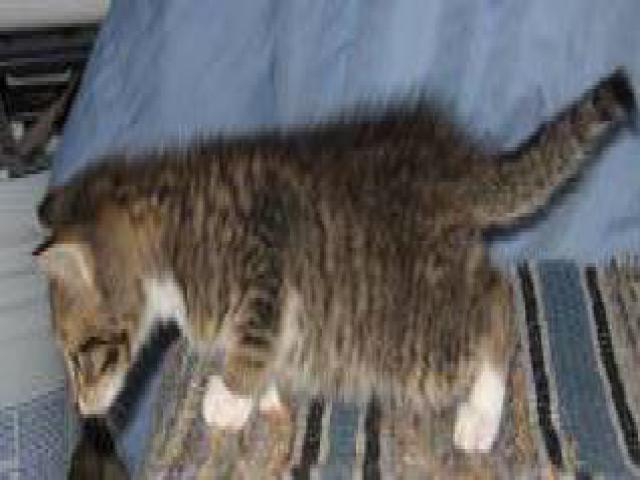cat: (30, 57, 637, 473)
